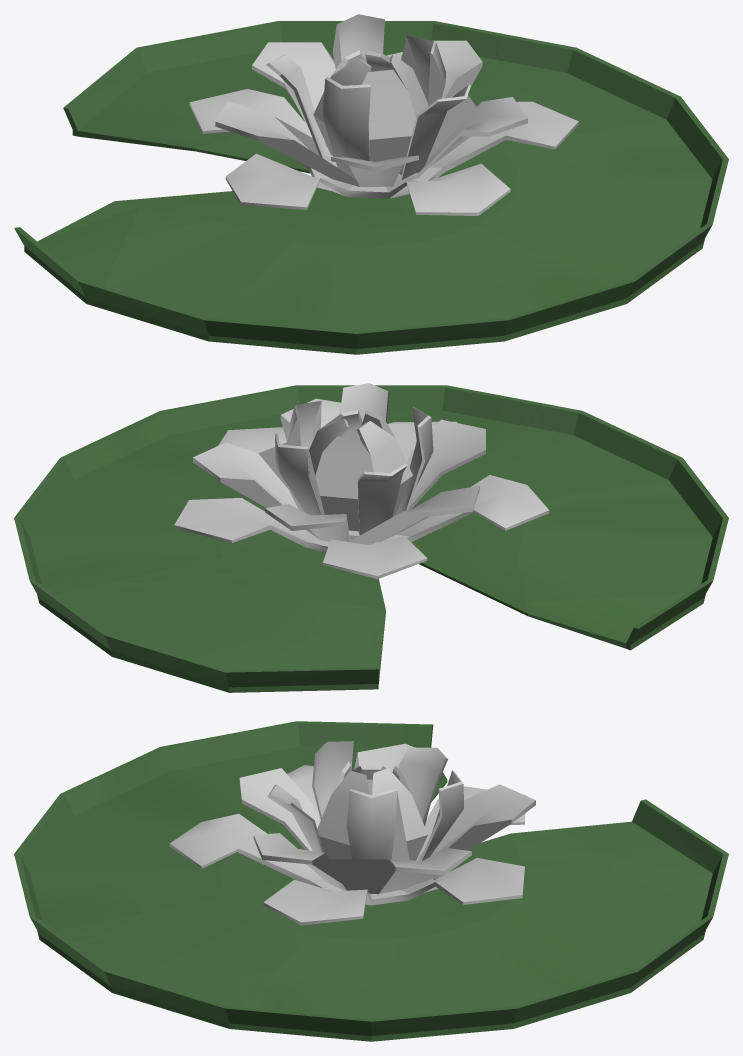
The model's file is LilyPad.fbx.
3 views of the same model, one above another, from view 1: azimuth 30°, elevation 25°; view 2: azimuth 150°, elevation 25°; view 3: azimuth 270°, elevation 25° (orthographic). The views are drawn at different scales.
Visible parts, largest first — view 1: LilyPad, Petal1, Petal2, Petals3, PetalCenter; view 2: LilyPad, Petal1, Petal2, Petals3, PetalCenter; view 3: LilyPad, Petal2, Petal1, Petals3, PetalCenter.
Boxes of the visible parts, left/top/right/bottom form: LilyPad: left=14, top=21, right=728, bottom=354; Petal1: left=189, top=52, right=578, bottom=215; Petal2: left=215, top=40, right=527, bottom=186; Petals3: left=266, top=14, right=470, bottom=180; PetalCenter: left=313, top=50, right=428, bottom=169; LilyPad: left=14, top=385, right=728, bottom=692; Petal1: left=174, top=421, right=549, bottom=579; Petal2: left=193, top=398, right=485, bottom=543; Petals3: left=274, top=383, right=433, bottom=540; PetalCenter: left=309, top=410, right=412, bottom=531; LilyPad: left=14, top=721, right=728, bottom=1041; Petal2: left=239, top=743, right=535, bottom=894; Petal1: left=169, top=765, right=525, bottom=925; Petals3: left=267, top=741, right=463, bottom=860; PetalCenter: left=317, top=762, right=427, bottom=860.
Size of the model in its own units: 0.3104 by 0.0651 by 0.3121.
